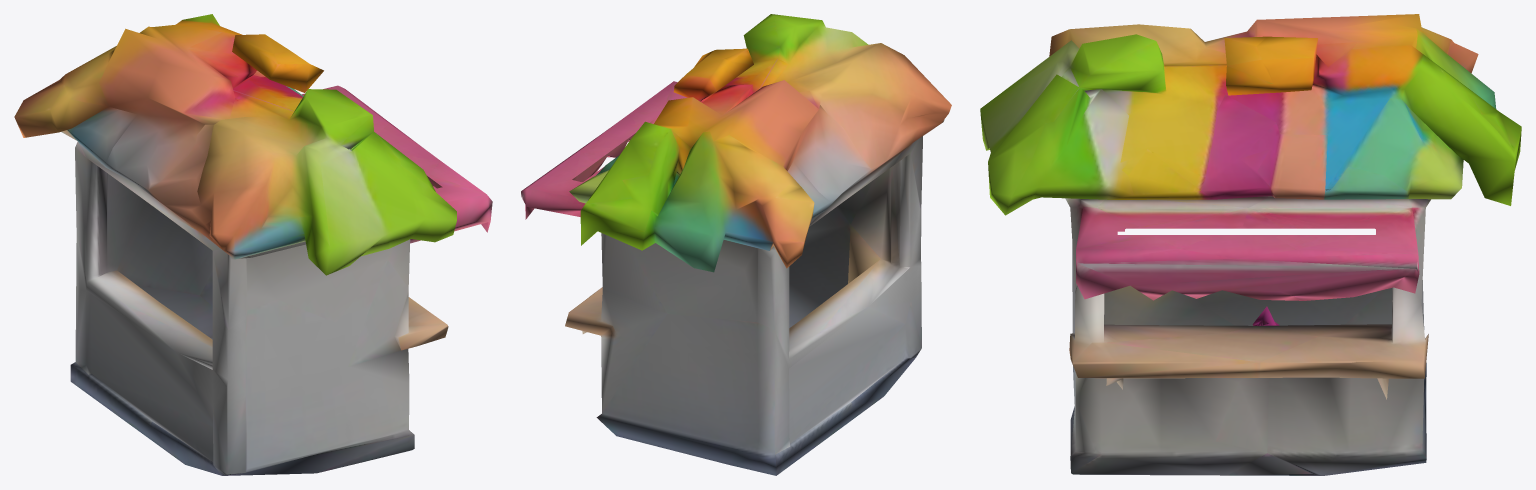
File: quiosque.glb
3 renders of one model, left to right at view 1: azimuth 30°, elevation 25°; view 2: azimuth 150°, elevation 25°; view 3: azimuth 270°, elevation 25°, orthographic. The views are drawn at different scales.
Parts seen in each view (by area): view 1: tripo_node_3bc52c17-6989-4671-ab76-7c5cb87afc0a; view 2: tripo_node_3bc52c17-6989-4671-ab76-7c5cb87afc0a; view 3: tripo_node_3bc52c17-6989-4671-ab76-7c5cb87afc0a.
Part boxes in pixels (x1,y1,x2,y2): tripo_node_3bc52c17-6989-4671-ab76-7c5cb87afc0a: (14, 14, 492, 475); tripo_node_3bc52c17-6989-4671-ab76-7c5cb87afc0a: (521, 14, 951, 475); tripo_node_3bc52c17-6989-4671-ab76-7c5cb87afc0a: (980, 14, 1521, 475).
Bounding box in the file's own units: 0.756 × 0.8155 × 1.
Materials: 1 (1 with a texture image).
